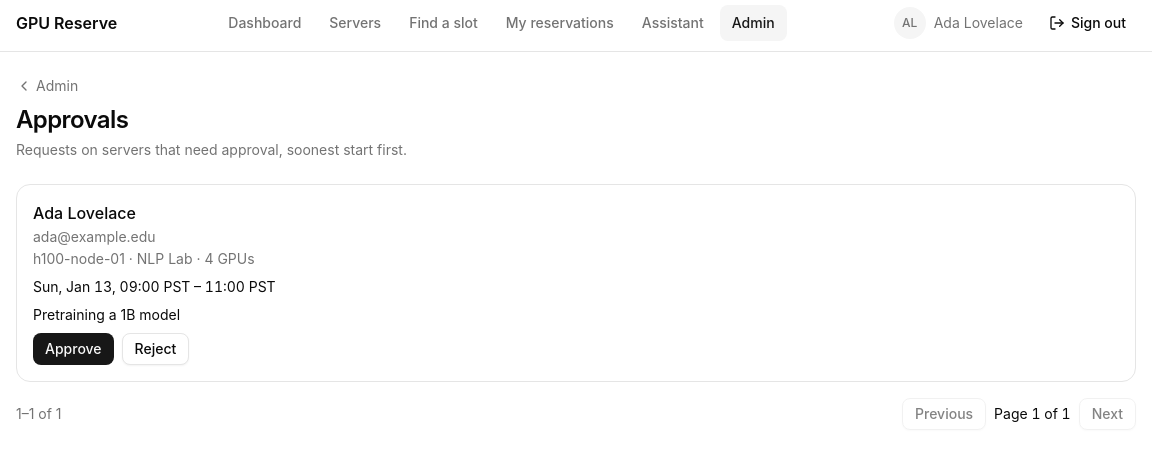
it: approval queue › keeps a conflict on the row while the request is still listed
The width and height of the screenshot is (1152, 475).
Click the button "Approve".
click(73, 349)  # box [33,333,114,365]
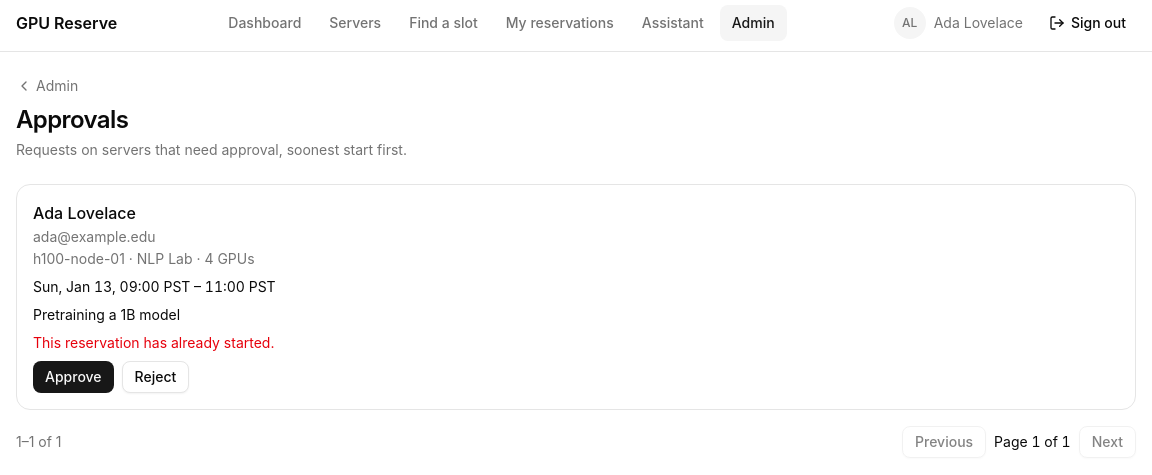
Result: the message reads "This reservation has already started." at [33,334,274,351]
